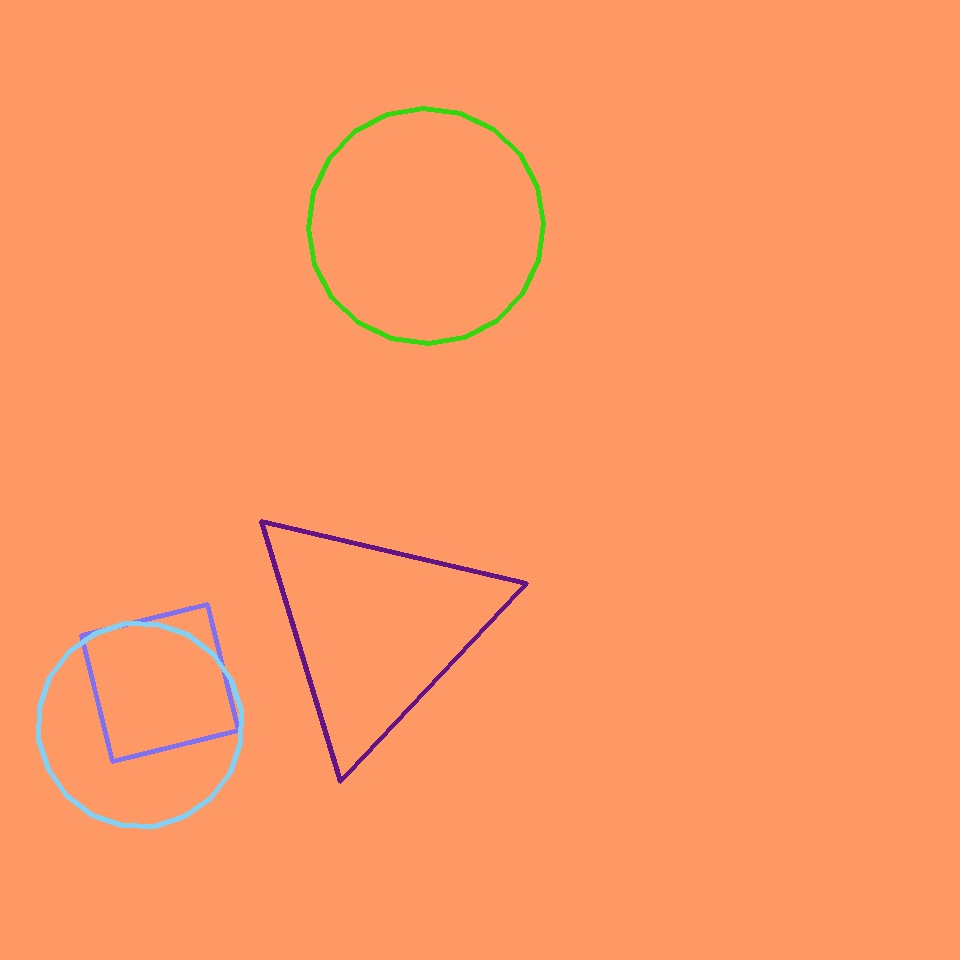circle: (244, 499, 508, 759)
square: (81, 604, 238, 762)
triangle: (308, 108, 544, 344), (39, 624, 242, 826)
